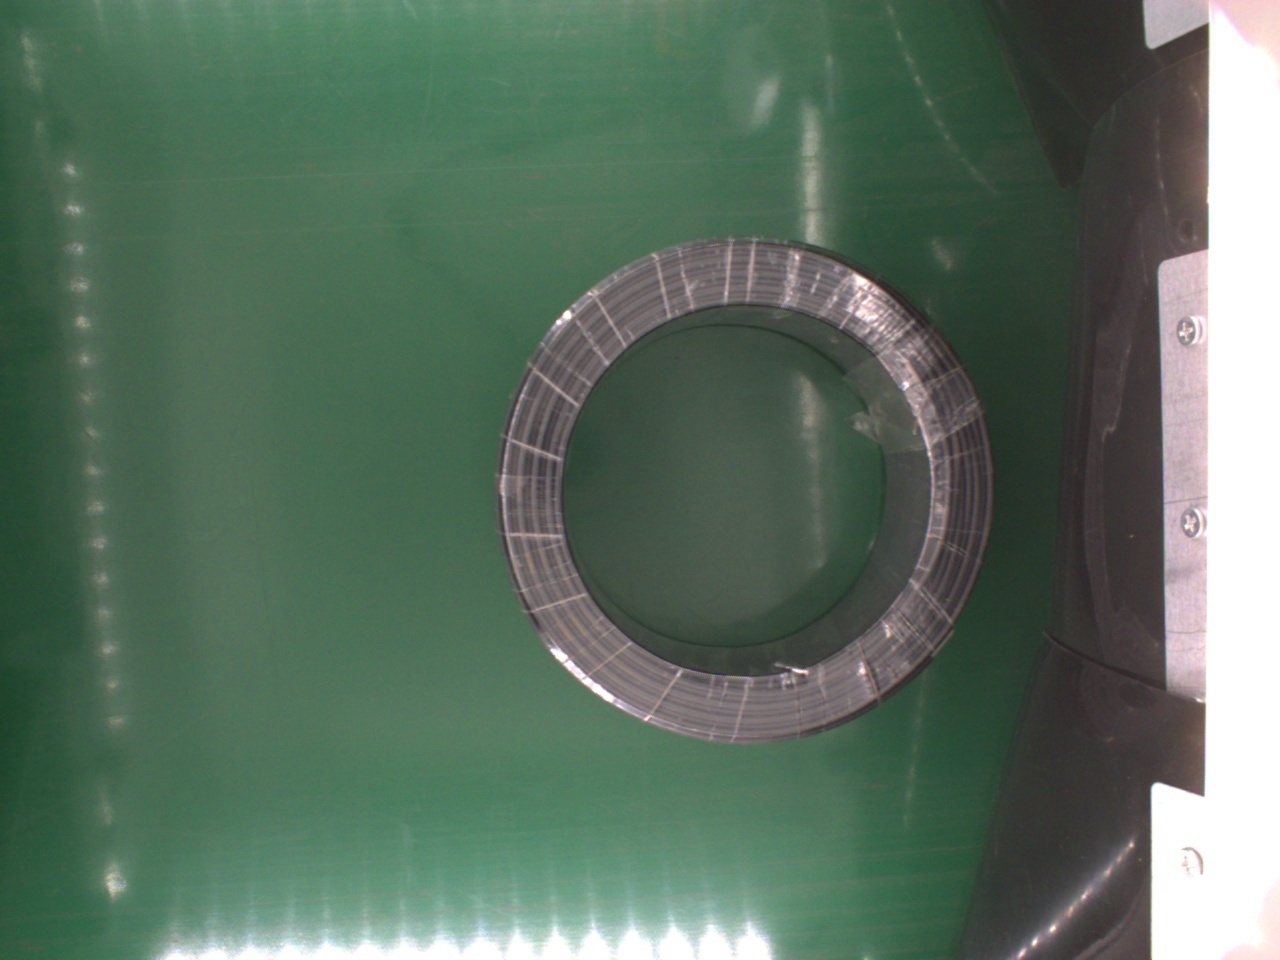black: (493, 236, 994, 744)
